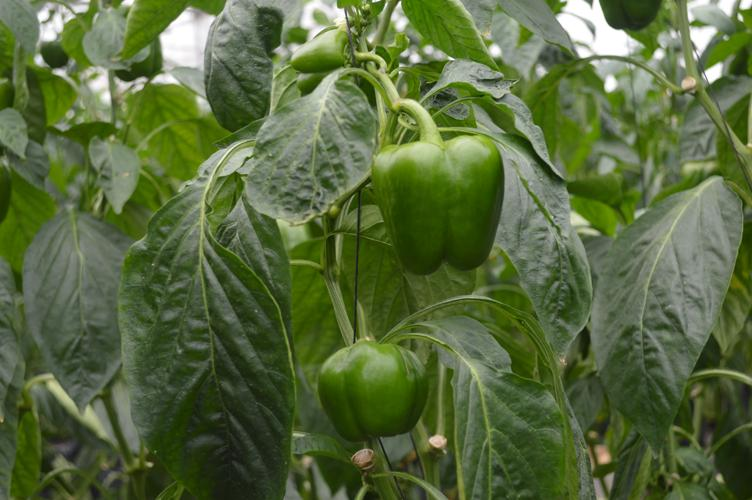BellPepper: (360, 131, 528, 288), (311, 331, 436, 442), (284, 21, 364, 99)
